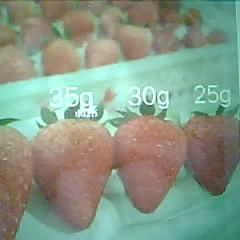straw-ripe: (34, 121, 113, 228), (115, 118, 184, 214), (186, 115, 240, 197)
